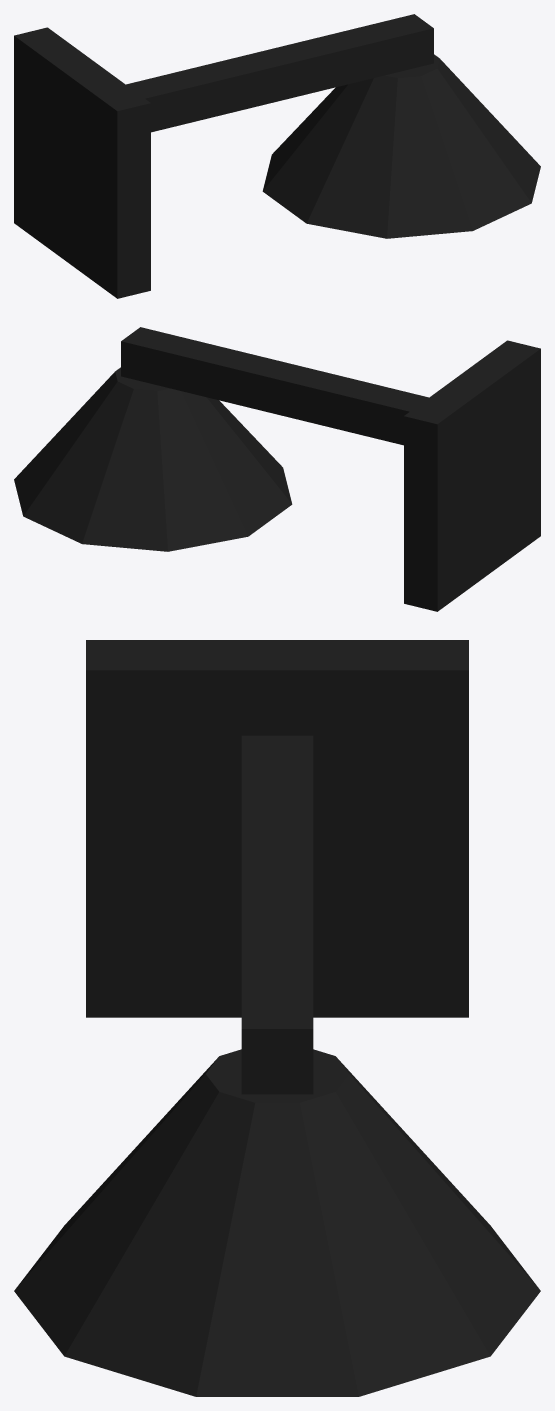
Rendered from SM_Build_Wandlampe_Aussen.fbx.
3 renders of one model, top to bottom at view 1: azimuth 30°, elevation 25°; view 2: azimuth 150°, elevation 25°; view 3: azimuth 270°, elevation 25°, orthographic. The views are drawn at different scales.
Parts seen in each view (by area): view 1: Wandlampe Außen; view 2: Wandlampe Außen; view 3: Wandlampe Außen.
Boxes of the visible parts, x1=… form: Wandlampe Außen: x1=14, y1=14, x2=540, y2=298; Wandlampe Außen: x1=14, y1=327, x2=540, y2=611; Wandlampe Außen: x1=14, y1=640, x2=540, y2=1396.
Bounding box in the file's own units: 0.4046 × 0.165 × 0.22.
